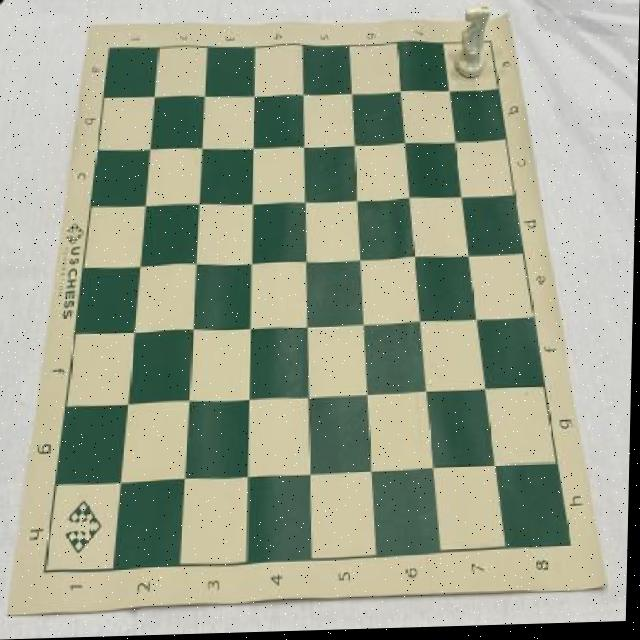white-king: (454, 6, 493, 84)
